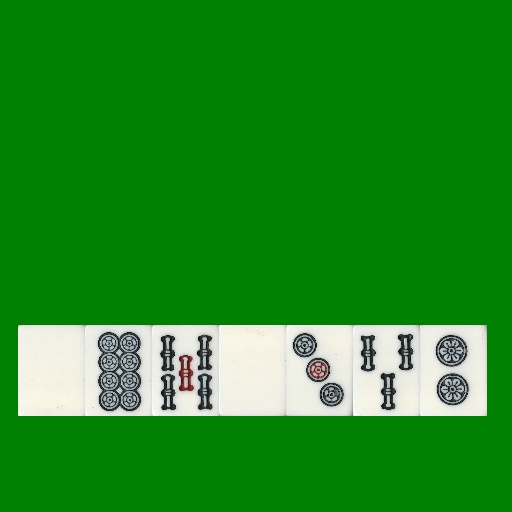2p: (420, 325, 487, 416)
3p: (286, 325, 353, 416)
3s: (353, 325, 420, 416)
5s: (152, 325, 219, 416)
8p: (85, 325, 152, 416)
white: (18, 325, 85, 416), (219, 325, 286, 416)
